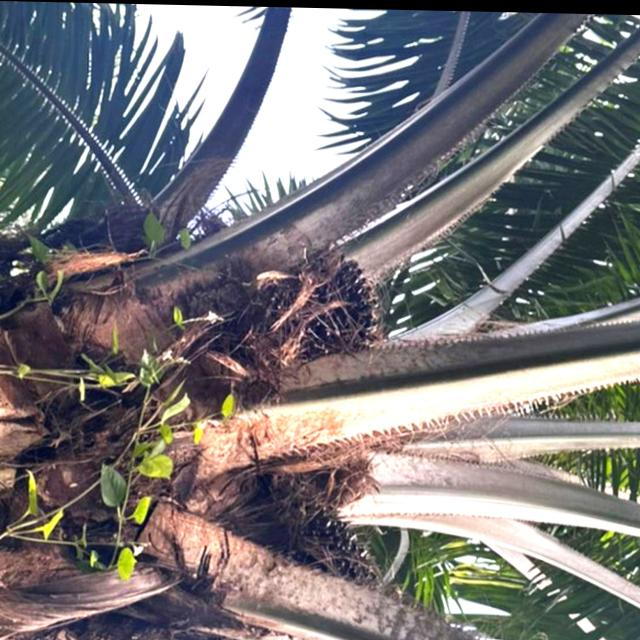almost: (232, 240, 386, 369)
